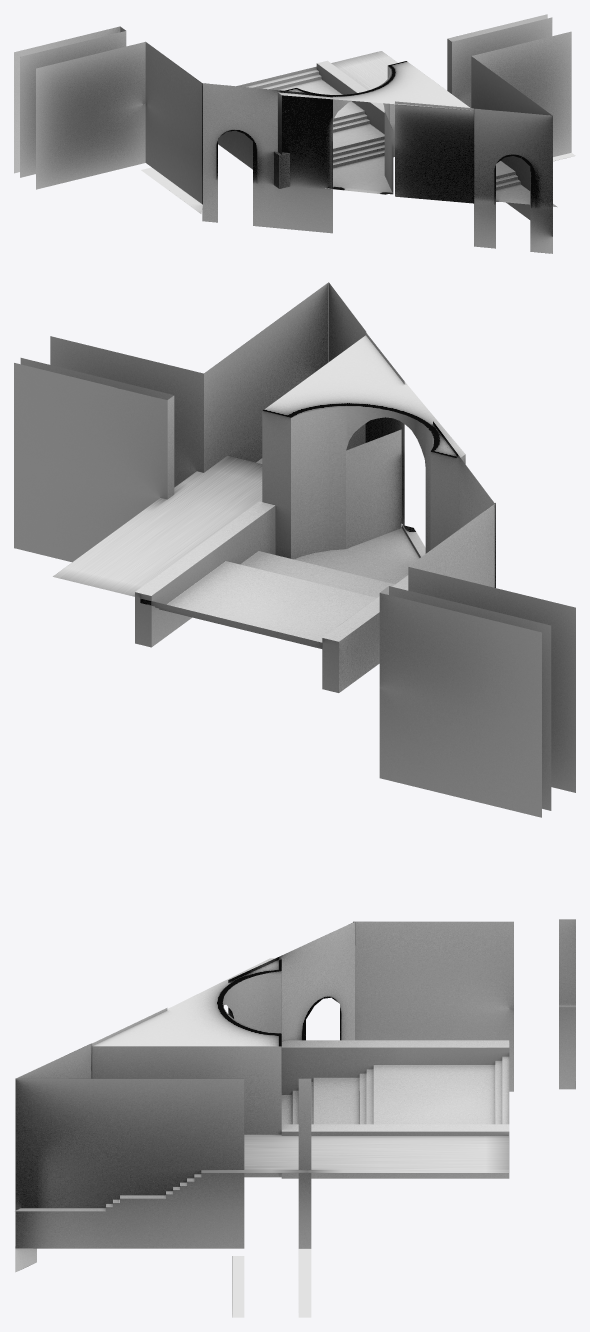
File: stairs.glb
The picture shows the model from 3 angles, top to bottom: view 1: azimuth 30°, elevation 25°; view 2: azimuth 150°, elevation 25°; view 3: azimuth 270°, elevation 25°; orthographic projection. The views are drawn at different scales.
Visible parts, largest first — view 1: Plane.005; view 2: Plane.005; view 3: Plane.005.
Boxes of the visible parts, bbox=[...] form: Plane.005: bbox=[14, 14, 575, 253]; Plane.005: bbox=[14, 282, 575, 817]; Plane.005: bbox=[15, 919, 575, 1317].
Bounding box in the file's own units: 34.1 × 10.24 × 26.91.
1 material, 1 textured.
